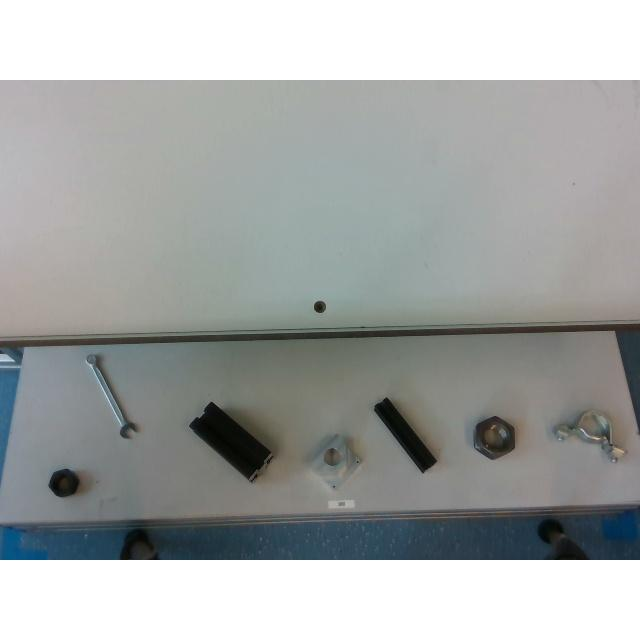F20_20_B: (372, 396, 436, 472)
Housing: (552, 409, 624, 461)
M20: (46, 467, 82, 498)
M30: (474, 417, 514, 459)
S40_40_B: (188, 402, 272, 482)
